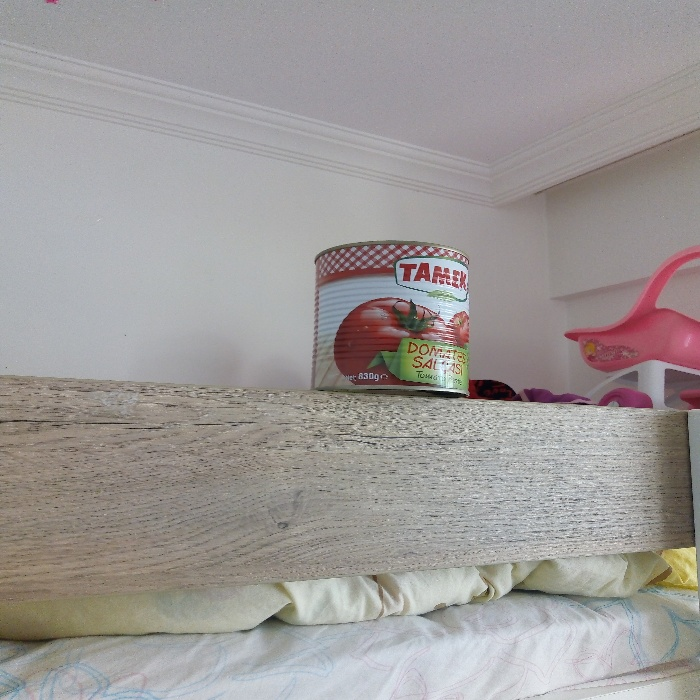salca: (303, 230, 495, 405)
